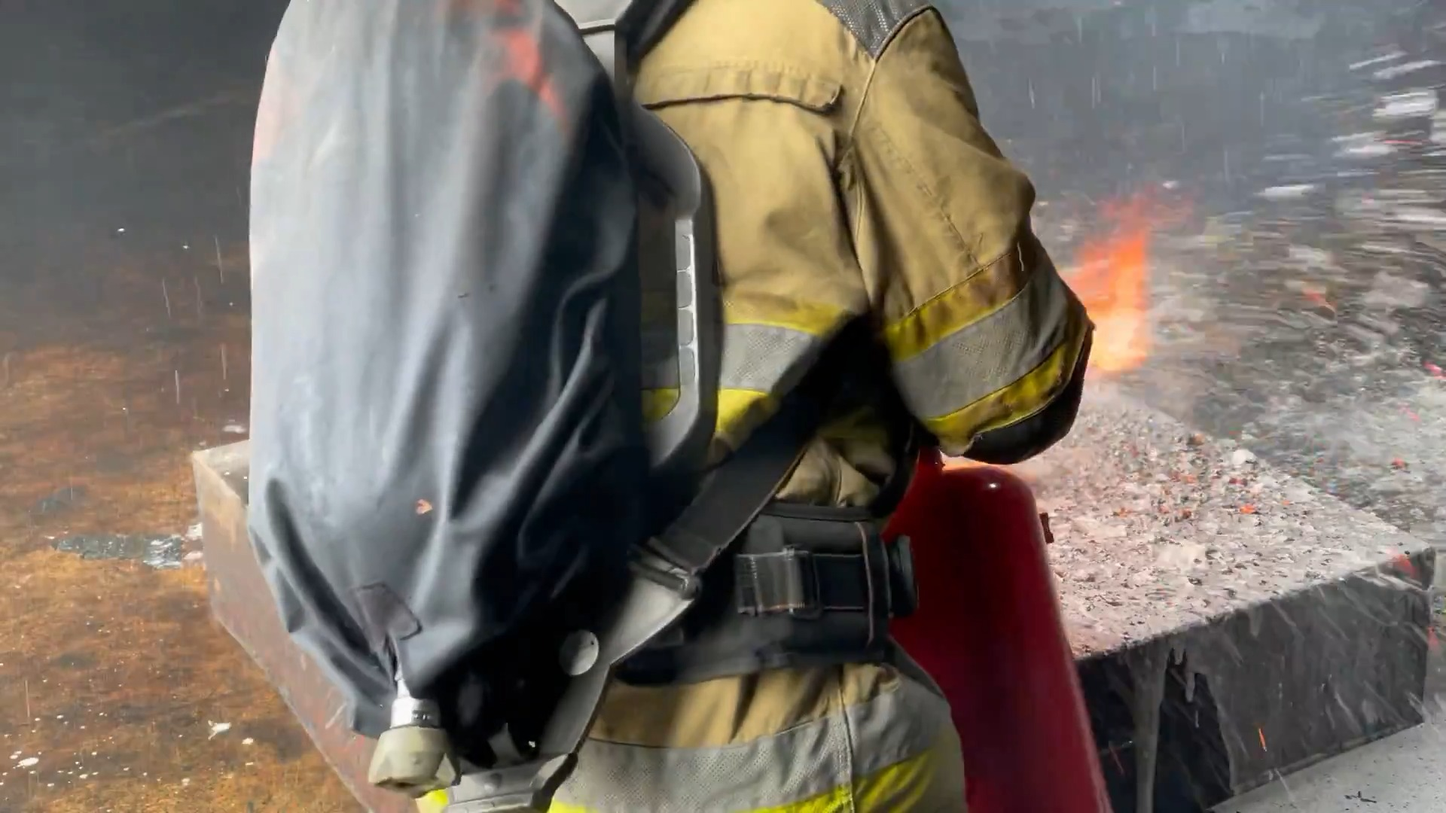fire: (1042, 190, 1160, 381)
